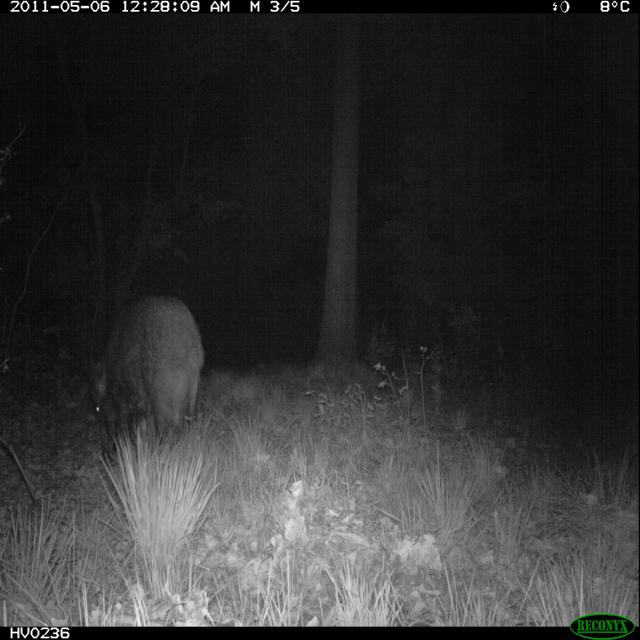boar: (71, 280, 235, 440)
